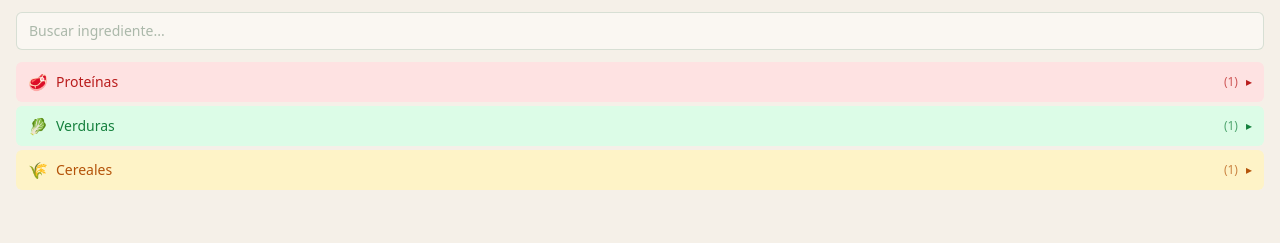
Test: IngredientPicker › expands a category when header is clicked
Click the text "Verduras".
click(85, 126)  # box [56,116,115,135]
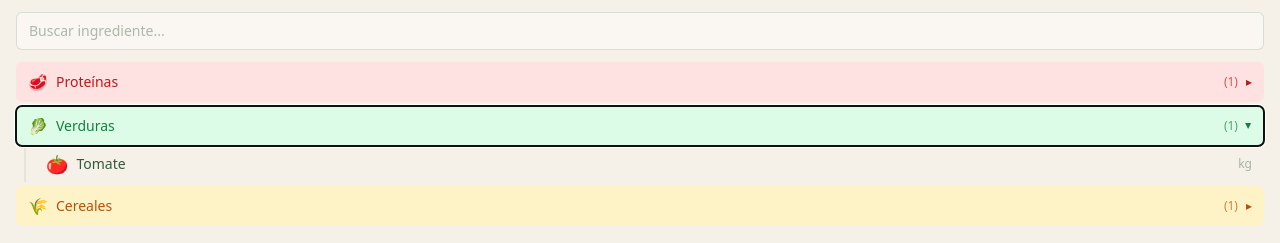
Check: the text "Tomate" is shown, box [76,154,126,173]
